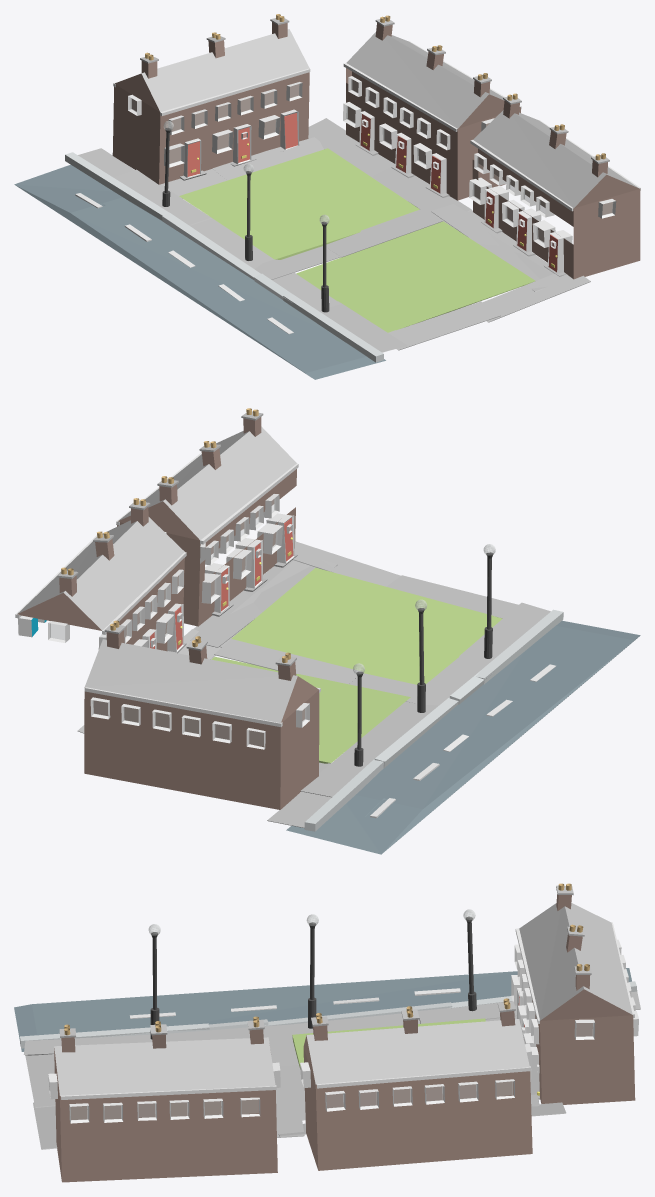
The picture shows the model from 3 angles, top to bottom: view 1: azimuth 30°, elevation 25°; view 2: azimuth 150°, elevation 25°; view 3: azimuth 270°, elevation 25°; orthographic projection. The views are drawn at different scales.
Parts seen in each view (by area): view 1: group1712980391, group2063440936, group295369104, group666656545, group501757177, group1503953162, group624820178, group44896131, group511478509, group1997023002, group1893226566, group1721759264 (+15 smaller); view 2: group2063440936, group1712980391, group501757177, group295369104, group1503953162, group666656545, group44896131, group624820178, group1648312890, group511478509, group1721759264, group1108371659 (+10 smaller); view 3: group1503953162, group295369104, group2063440936, group1712980391, group44896131, group624820178, group1721759264, group1839814078, group1648312890, group290125455, group306112169, group1077596231 (+7 smaller).
Boxes of the visible parts, box(x1,y1,x2,y2) form: group1712980391: box(14, 164, 385, 379); group2063440936: box(112, 29, 309, 184); group295369104: box(472, 110, 640, 279); group666656545: box(179, 148, 419, 259); group501757177: box(296, 221, 535, 332); group1503953162: box(346, 32, 520, 200); group624820178: box(388, 301, 500, 350); group44896131: box(326, 208, 442, 257); group511478509: box(483, 272, 590, 322); group1997023002: box(308, 118, 395, 176); group1893226566: box(371, 165, 471, 215); group1721759264: box(113, 169, 211, 225); group2063440936: box(84, 639, 319, 809); group1712980391: box(286, 620, 640, 854); group501757177: box(231, 567, 502, 684); group295369104: box(117, 426, 296, 626); group1503953162: box(17, 517, 184, 651); group666656545: box(211, 656, 410, 763); group44896131: box(214, 639, 360, 684); group624820178: box(386, 575, 518, 618); group1648312890: box(459, 602, 550, 660); group511478509: box(292, 541, 400, 586); group1721759264: box(300, 742, 386, 797); group1108371659: box(190, 590, 261, 647); group1503953162: box(303, 1019, 532, 1170); group295369104: box(54, 1037, 277, 1182); group2063440936: box(519, 903, 635, 1104); group1712980391: box(14, 968, 631, 1051); group44896131: box(276, 1065, 305, 1120); group624820178: box(25, 1054, 55, 1107); group1721759264: box(418, 1001, 516, 1023); group1839814078: box(287, 1013, 420, 1034); group1648312890: box(23, 1034, 152, 1055); group290125455: box(263, 1025, 298, 1065); group306112169: box(61, 1085, 276, 1099); group1077596231: box(316, 1066, 530, 1088).
Size of the model in its own units: 5.59 by 1.96 by 6.62.
